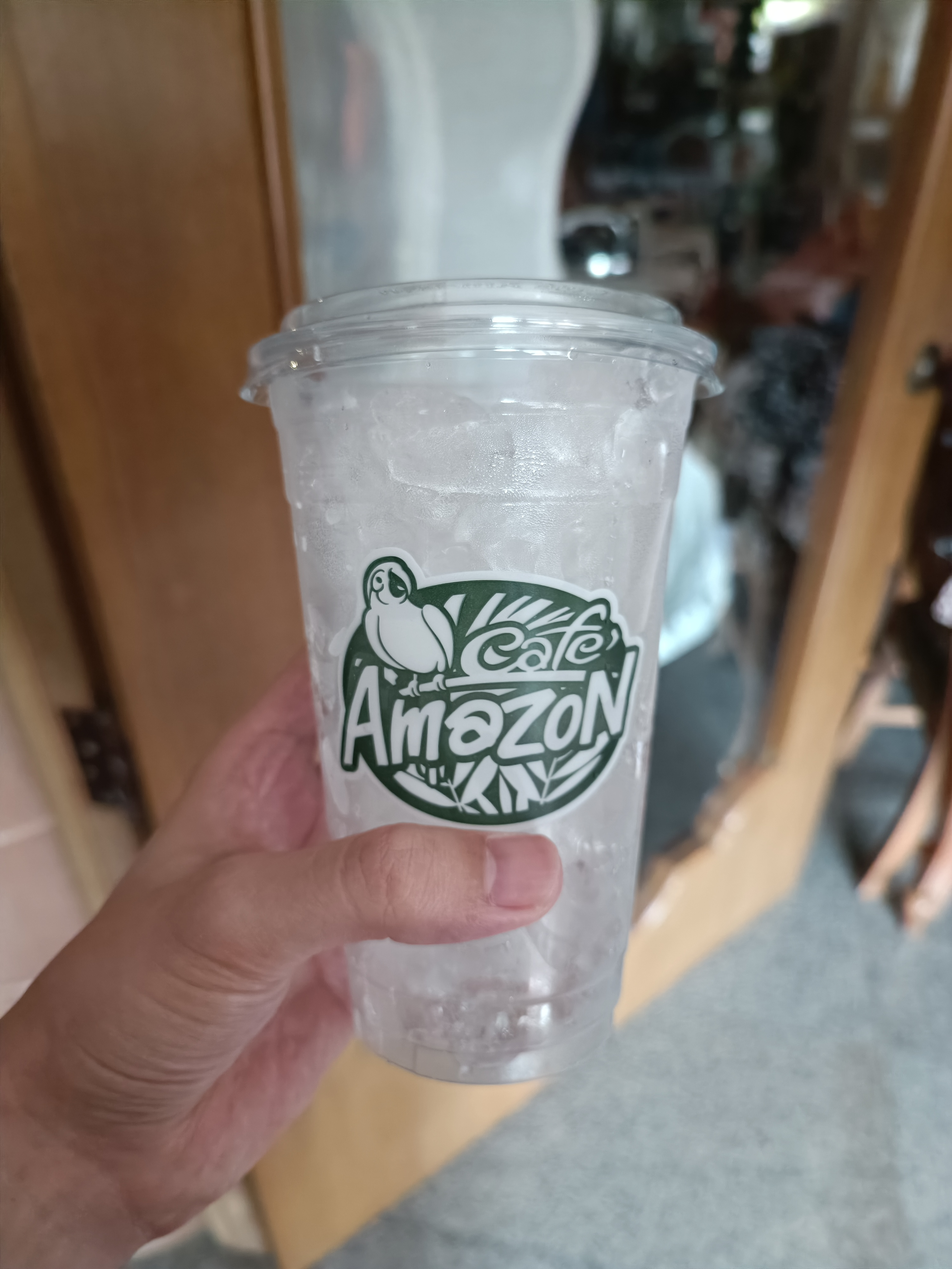plastic: (225, 271, 755, 1091)
